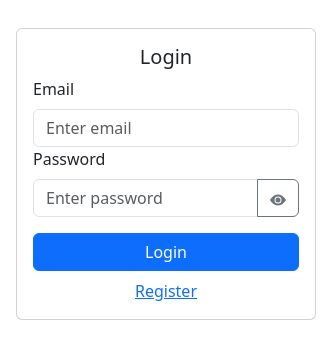
Test: Login component › shows error message for missing email
Click the button "Login": (166, 252) [33, 233, 299, 271]
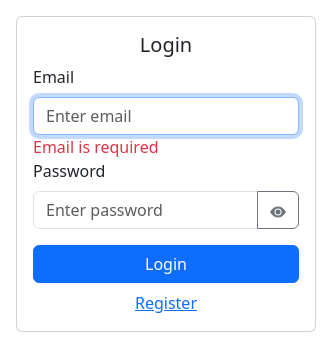
Check: the text "Email is required" is shown, box [33, 136, 158, 158]
